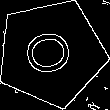O_E: (22, 27, 81, 79)
